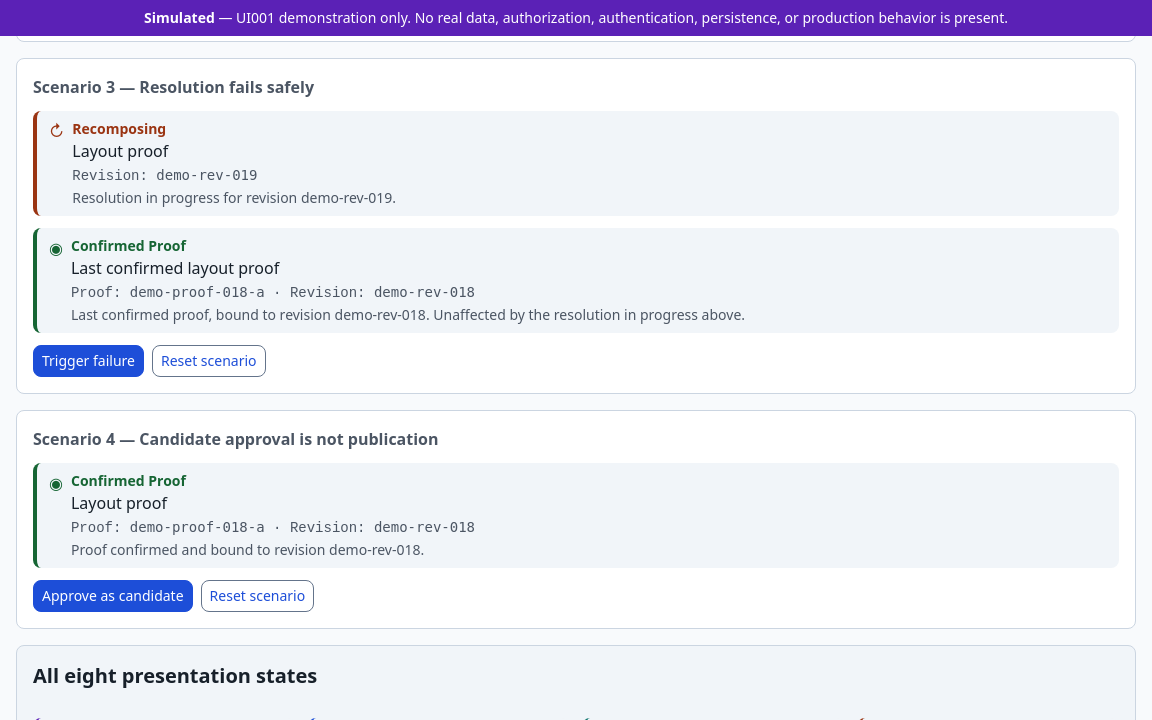
Test: Showcase — scenario sequences (§10.4) › Scenario 3: last confirmed proof stays visible while recomposing and after failure
This screenshot has width=1152, height=720.
(page scrolled)
Expected: the text "Recomposing" is shown, [72,119,166,138]
Expected: the text "Confirmed Proof" below "Scenario 3 — Resolution fails safely" is shown, [71,236,186,255]
Click the button "Trigger failure".
click(88, 361)  # box [33,345,144,377]
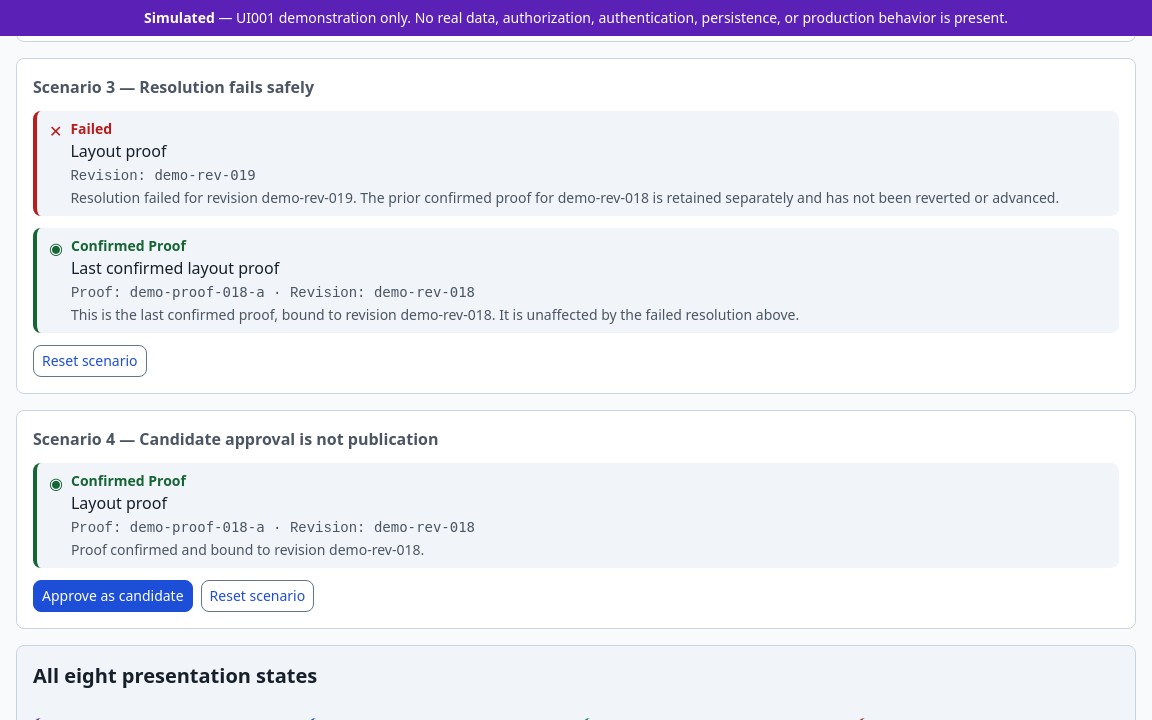
Expected: the text "Confirmed Proof" below "Scenario 3 — Resolution fails safely" is shown, [71,236,186,255]
Now the text "Failed" is shown, box [70,119,112,138]
Now the text "demo-rev-018" is shown, box [70,188,1059,207]
